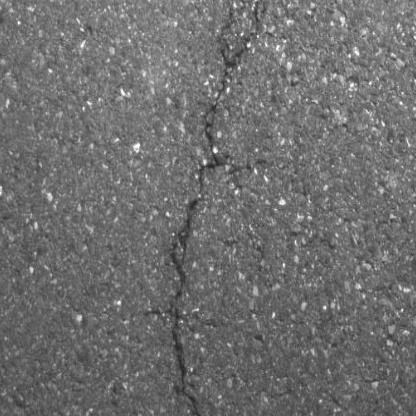Cracks: (166, 0, 276, 416)
